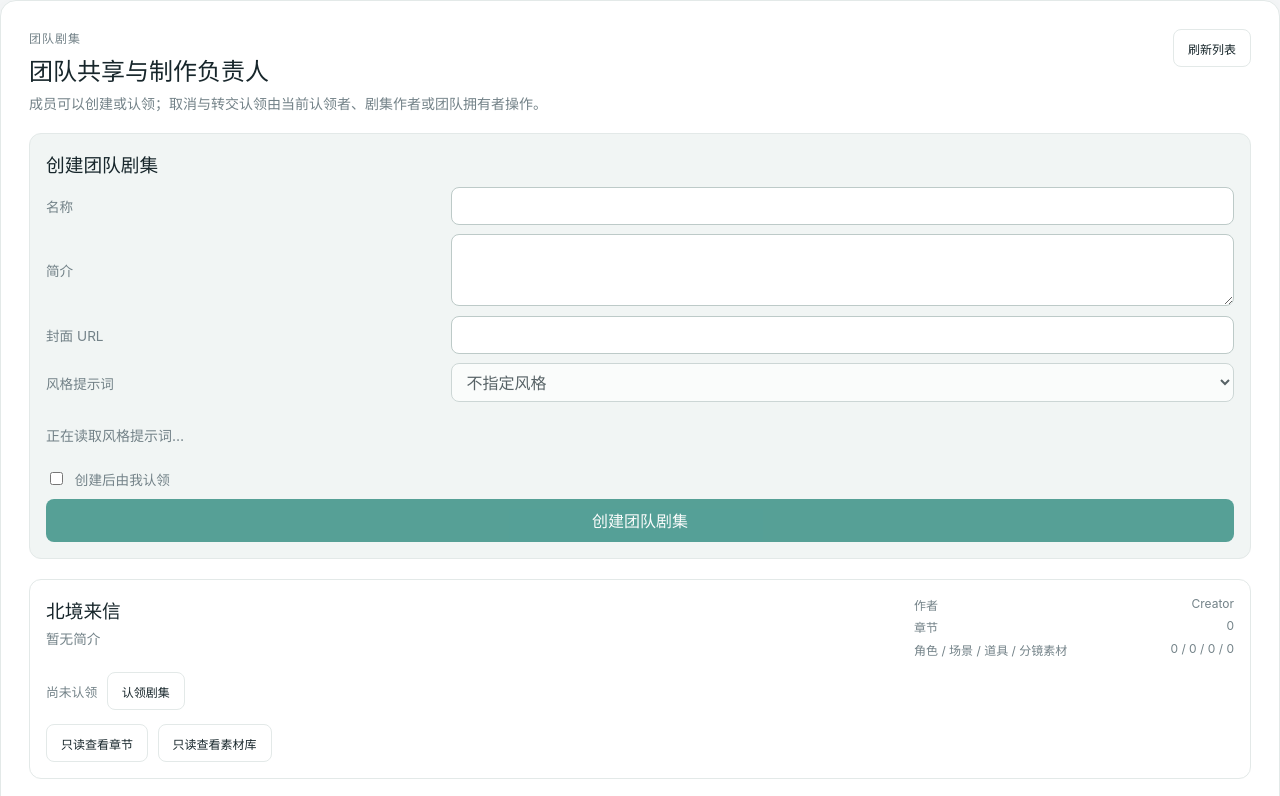
Test: TeamSeriesPanel › does not navigate when the real series detail denies entry
The width and height of the screenshot is (1280, 796).
Expected: the heading "北境来信" is shown, left=46, top=596, right=121, bottom=622
Click the button "只读查看章节": (97, 744) left=46, top=724, right=148, bottom=762
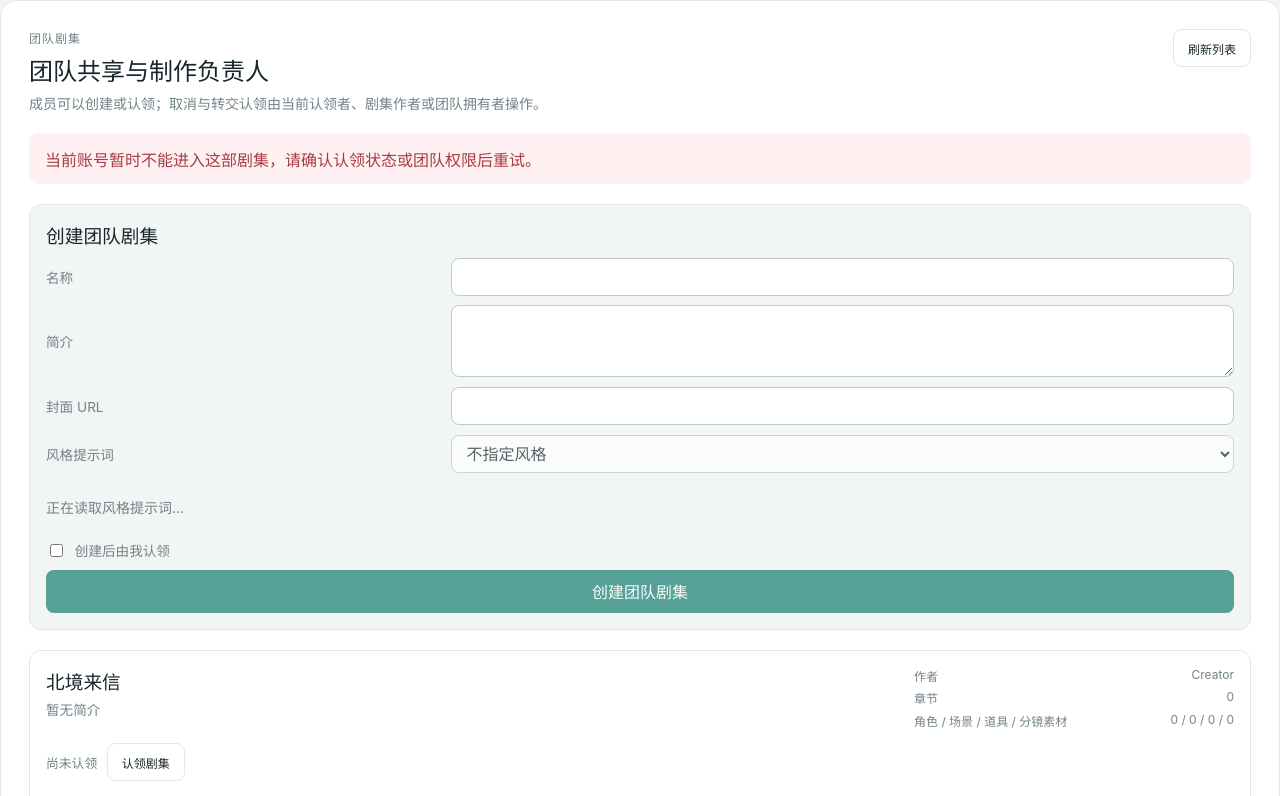
Now the message "当前账号暂时不能进入这部剧集，请确认认领状态或团队权限后重试。" is shown, box left=29, top=133, right=1251, bottom=184
